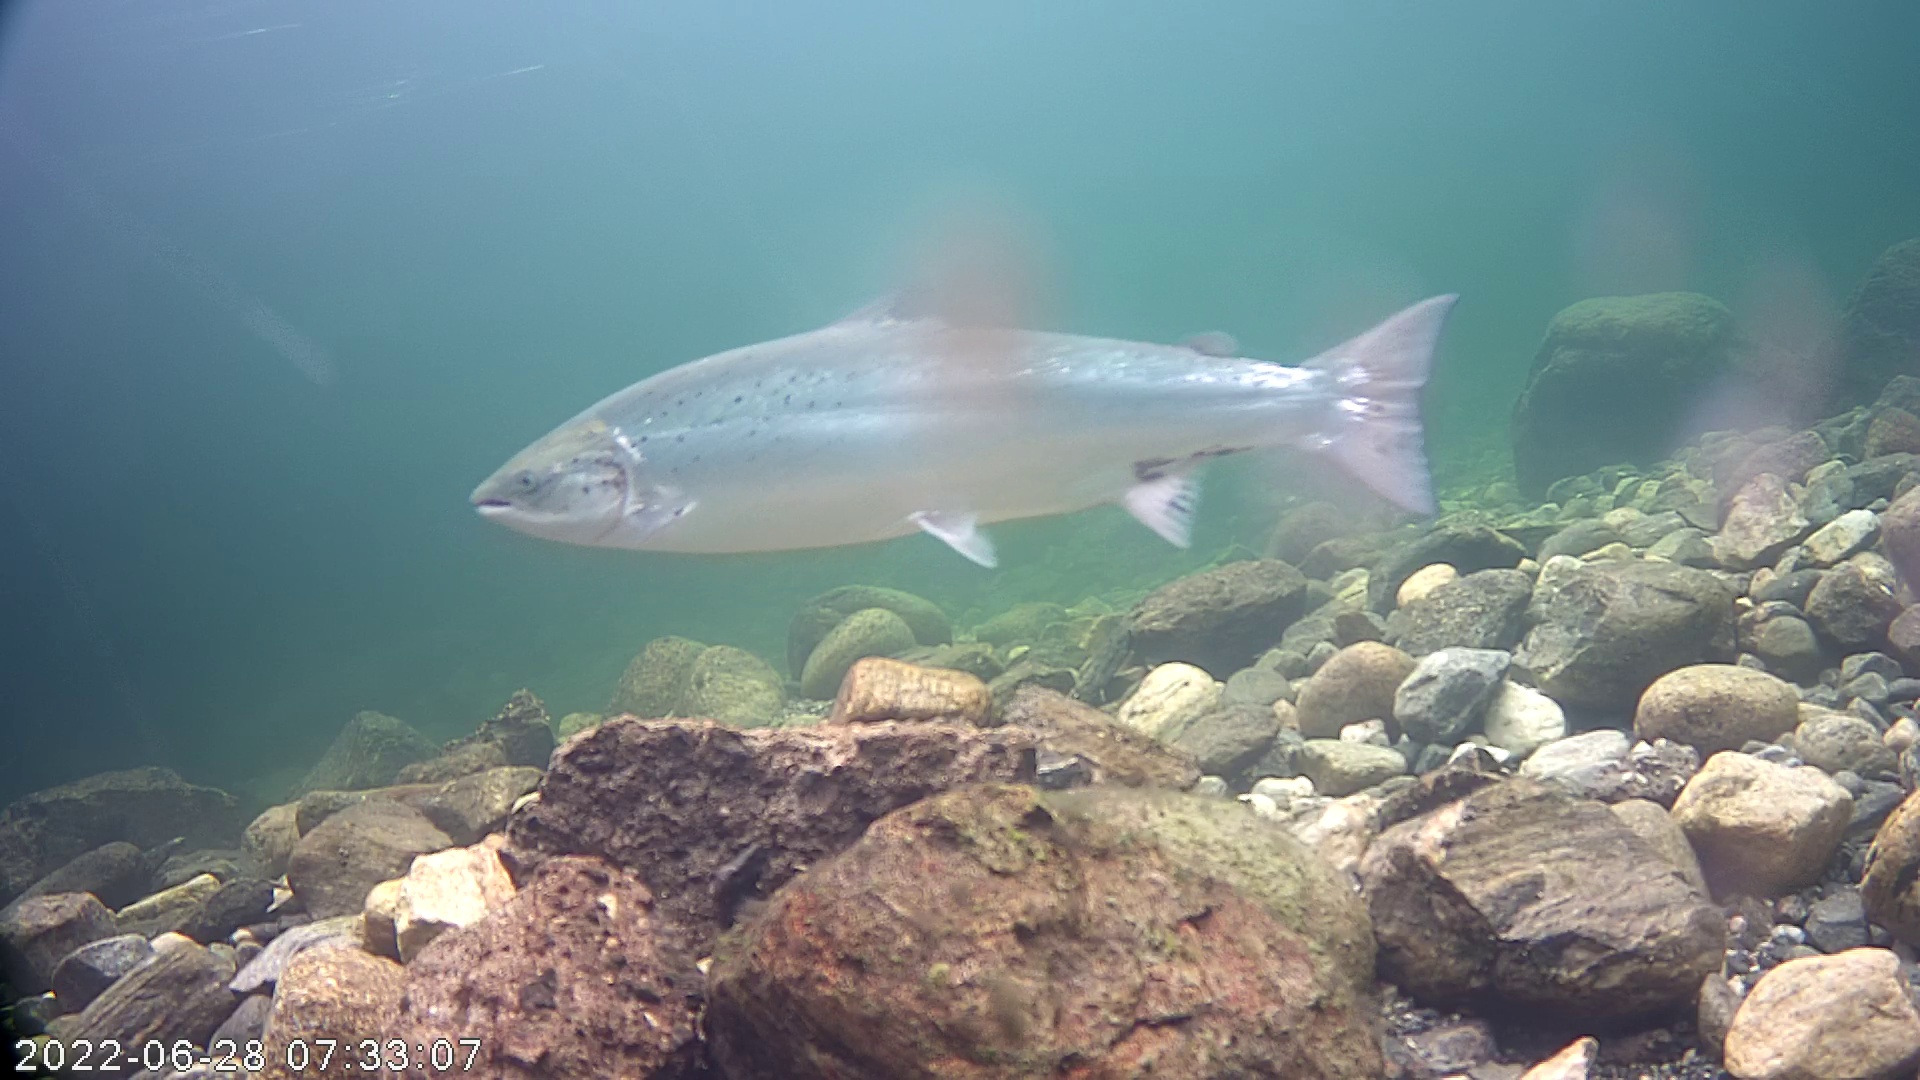salmon: (456, 152, 1484, 626)
